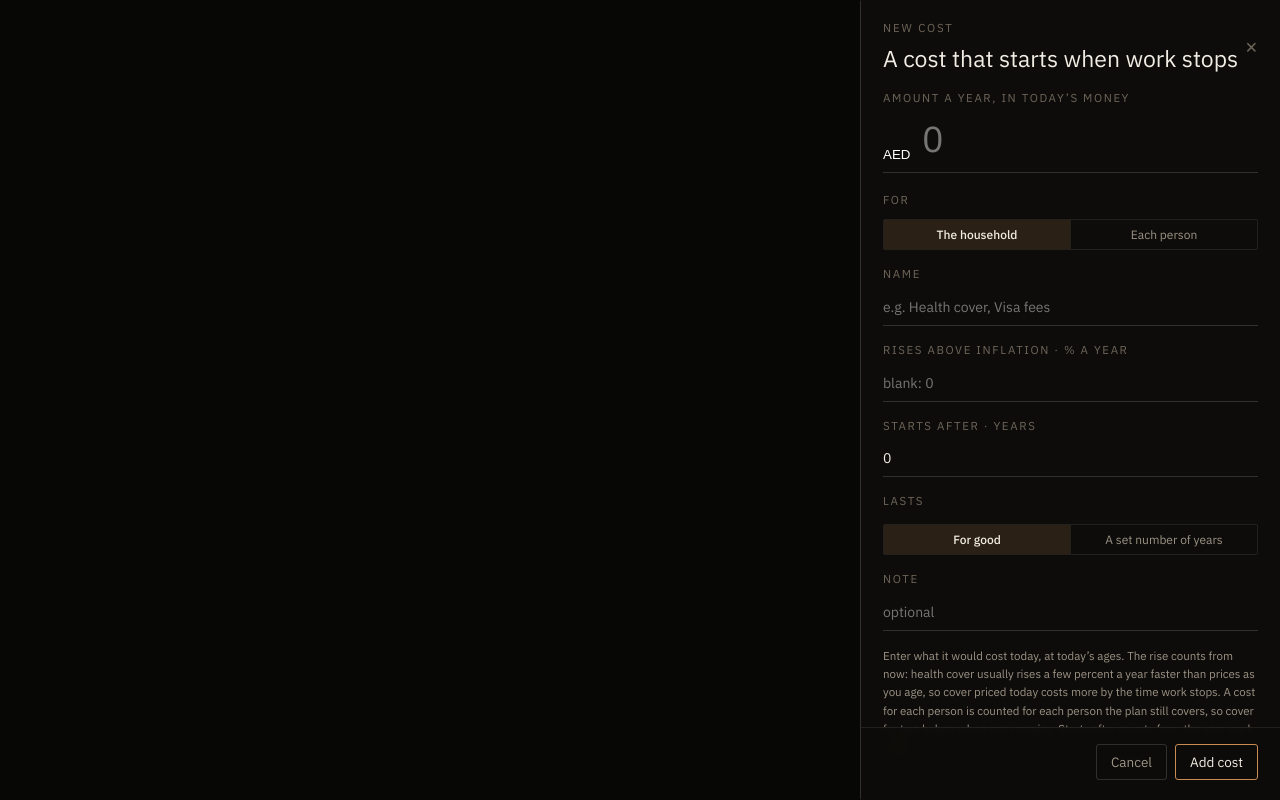
Scenario: CostEditor › warns that a rupee amount is not counted until a rate is set
This screenshot has width=1280, height=800.
Select "INR" in the dropdown named "Currency": (898, 154) [883,147,912,162]
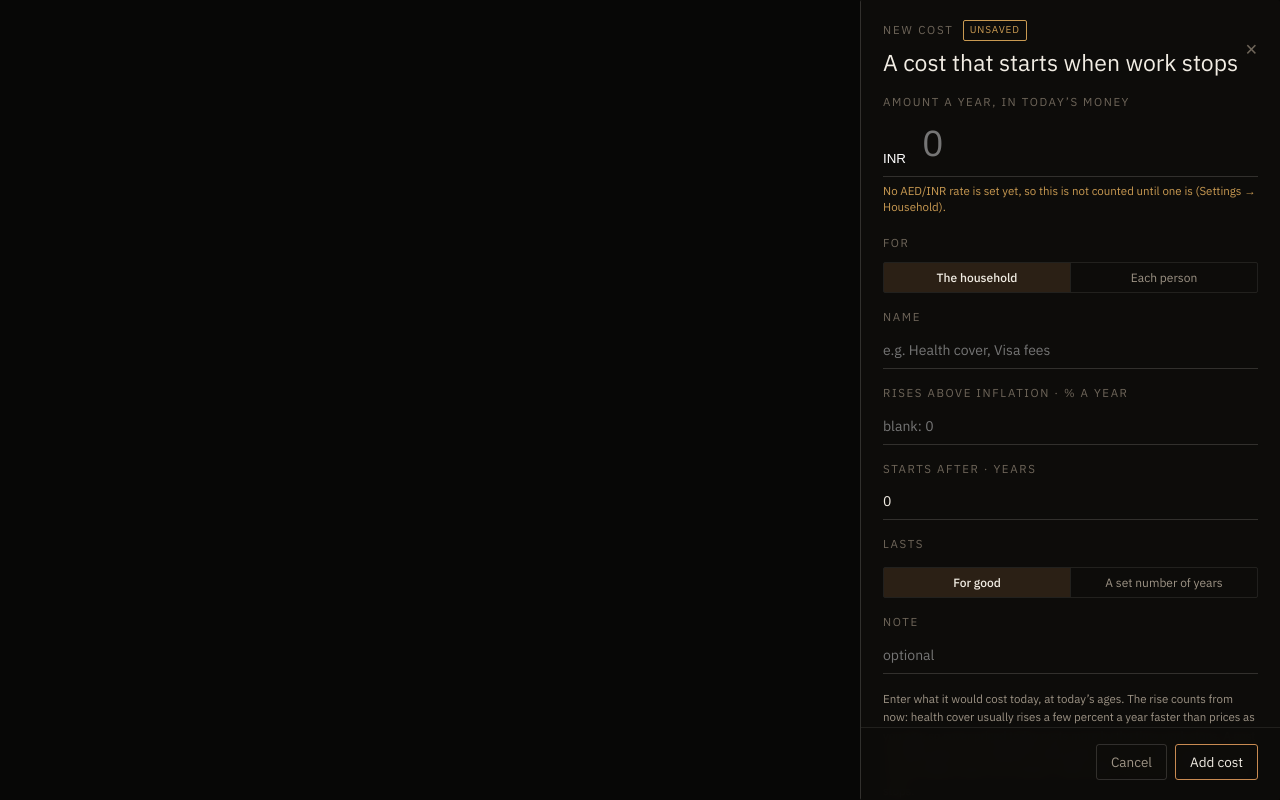
Now the text "No AED/INR rate is set yet" is shown, box [883,183,1256,214]
